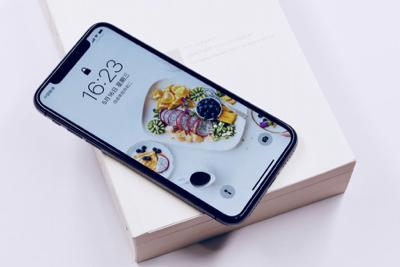cell-phone: (32, 19, 297, 223)
